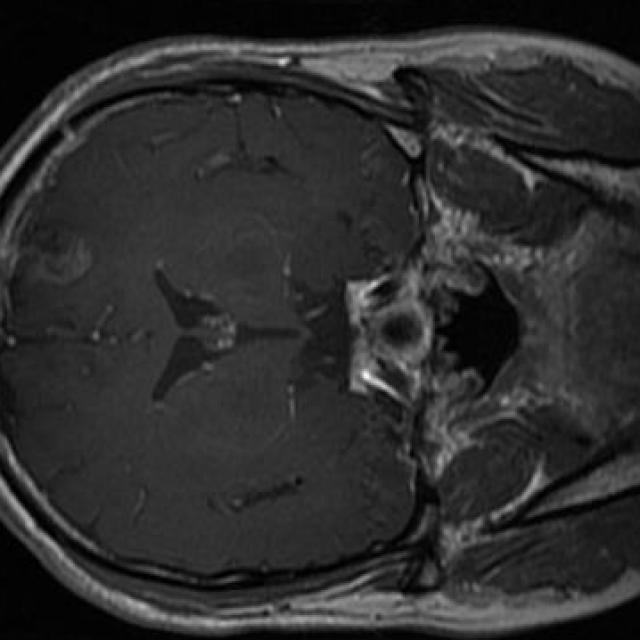glioma: (12, 228, 93, 287)
